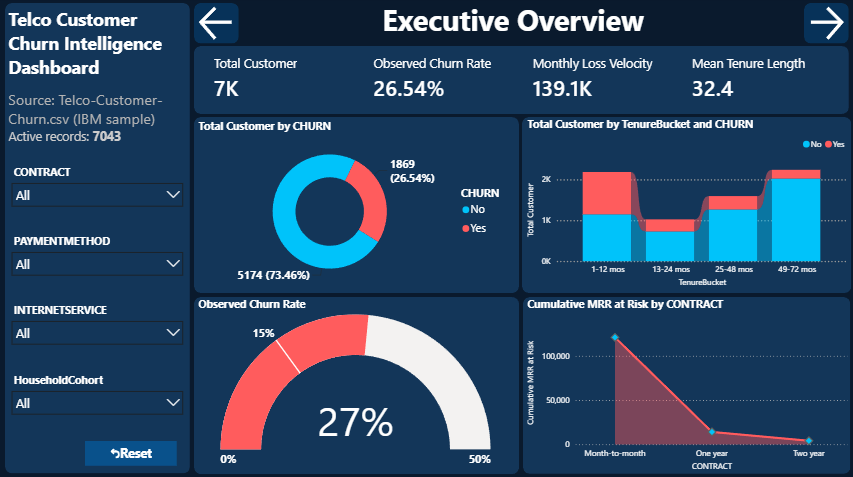

Layout of this report page (visuals, bound fields, positions):
{"tool":"powerbi","page":{"name":"Executive Overview","canvas":[1280,720],"ordinal":1},"visuals":[{"type":"group","id":"g1","title":"Group 1","box":[0,0,1280.2,720],"z":0},{"type":"shape","box":[0,0,1280.2,720],"z":0,"group":"g1"},{"type":"slicer","fields":{"Values":["TELCO_CUSTOMER_CHURN.CONTRACT"]},"box":[10.5,245,276.3,103.4],"z":0,"group":"g2"},{"type":"shape","box":[10.4,9.6,276.5,702.6],"z":1000,"group":"g1"},{"type":"cardVisual","fields":{"Data":["TELCO_CUSTOMER_CHURN.Total Customer","TELCO_CUSTOMER_CHURN.Observed Churn Rate","TELCO_CUSTOMER_CHURN.Monthly Loss Velocity","TELCO_CUSTOMER_CHURN.Mean Tenure Length"]},"box":[301.4,73.2,978.5,95.4],"z":1000},{"type":"slicer","fields":{"Values":["TELCO_CUSTOMER_CHURN.INTERNETSERVICE"]},"box":[10.5,451.7,276.3,103.4],"z":1000,"group":"g2"},{"type":"shape","box":[292.8,73.2,978.4,101.6],"z":2000,"group":"g1"},{"type":"slicer","fields":{"Values":["TELCO_CUSTOMER_CHURN.PAYMENTMETHOD"]},"box":[10.5,348.4,276.3,103.4],"z":2000,"group":"g2"},{"type":"actionButton","box":[130,663.2,137.4,37.3],"z":2000},{"type":"textbox","box":[569.1,0,427.2,76.2],"z":3000},{"type":"shape","box":[293,179.5,485.5,263],"z":3000,"group":"g1"},{"type":"slicer","fields":{"Values":["TELCO_CUSTOMER_CHURN.HouseholdCohort"]},"box":[10.5,555.1,276.3,94.7],"z":3000,"group":"g2"},{"type":"shape","box":[782.5,179.5,492,263],"z":4000,"group":"g1"},{"type":"group","id":"g2","title":"Group 2","box":[10.5,245,276.3,404.8],"z":4000},{"type":"donutChart","fields":{"Y":["TELCO_CUSTOMER_CHURN.Total Customer"],"Category":["TELCO_CUSTOMER_CHURN.CHURN"]},"box":[294.3,182.2,479.5,255.4],"z":5000},{"type":"shape","box":[784.9,447.9,489,264.4],"z":5000,"group":"g1"},{"type":"columnChart","fields":{"Y":["TELCO_CUSTOMER_CHURN.Total Customer"],"Category":["TELCO_CUSTOMER_CHURN.TenureBucket"],"Series":["TELCO_CUSTOMER_CHURN.CHURN"]},"box":[785.7,179.3,488.5,258.4],"z":6000},{"type":"shape","box":[292.7,447.8,485.7,264.6],"z":6000,"group":"g1"},{"type":"gauge","fields":{"Y":["TELCO_CUSTOMER_CHURN.Observed Churn Rate"]},"box":[294.3,447.7,479.5,263.6],"z":7000},{"type":"areaChart","fields":{"Category":["TELCO_CUSTOMER_CHURN.CONTRACT"],"Y":["TELCO_CUSTOMER_CHURN.Cumulative MRR at Risk"]},"box":[785.7,448.1,488.5,264.4],"z":8000},{"type":"textbox","box":[10.5,9,276.3,236],"z":9000},{"type":"actionButton","box":[293,9.5,66.9,60.6],"z":10000},{"type":"actionButton","box":[1204.2,9.5,66.9,60.6],"z":11000}]}

Visuals, with their boxes in screenshot pixels (x1, y1, x2, y2), scaled from the page's 1280x720 canvas onto the 853x477 screenshot:
"Group 1" group: Rect(0, 0, 852, 476)
shape: Rect(0, 0, 852, 476)
slicer - TELCO_CUSTOMER_CHURN.CONTRACT: Rect(7, 162, 191, 231)
shape: Rect(7, 6, 191, 472)
cardVisual - TELCO_CUSTOMER_CHURN.Total Customer x TELCO_CUSTOMER_CHURN.Observed Churn Rate: Rect(201, 48, 852, 112)
slicer - TELCO_CUSTOMER_CHURN.INTERNETSERVICE: Rect(7, 299, 191, 368)
shape: Rect(195, 48, 847, 116)
slicer - TELCO_CUSTOMER_CHURN.PAYMENTMETHOD: Rect(7, 231, 191, 299)
actionButton: Rect(87, 439, 178, 464)
textbox: Rect(379, 0, 664, 50)
shape: Rect(195, 119, 519, 293)
slicer - TELCO_CUSTOMER_CHURN.HouseholdCohort: Rect(7, 368, 191, 430)
shape: Rect(521, 119, 849, 293)
"Group 2" group: Rect(7, 162, 191, 430)
donutChart - TELCO_CUSTOMER_CHURN.Total Customer x TELCO_CUSTOMER_CHURN.CHURN: Rect(196, 121, 516, 290)
shape: Rect(523, 297, 849, 472)
columnChart - TELCO_CUSTOMER_CHURN.Total Customer x TELCO_CUSTOMER_CHURN.TenureBucket: Rect(524, 119, 849, 290)
shape: Rect(195, 297, 519, 472)
gauge - TELCO_CUSTOMER_CHURN.Observed Churn Rate: Rect(196, 297, 516, 471)
areaChart - TELCO_CUSTOMER_CHURN.CONTRACT x TELCO_CUSTOMER_CHURN.Cumulative MRR at Risk: Rect(524, 297, 849, 472)
textbox: Rect(7, 6, 191, 162)
actionButton: Rect(195, 6, 240, 46)
actionButton: Rect(802, 6, 847, 46)
